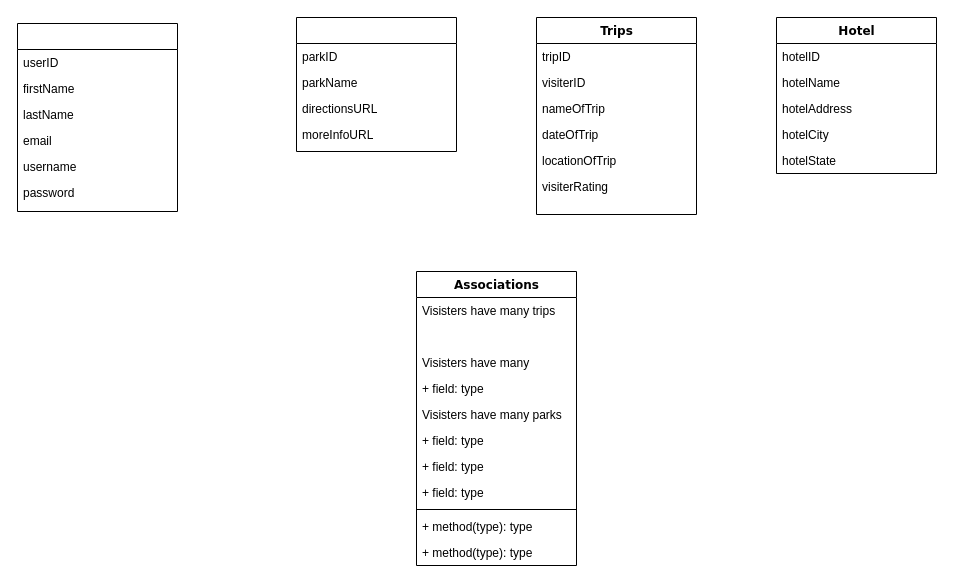
This 954x586 diagram has some shape labels left out. The box of each missing label's shape, as (x1, y1, x2, y2) in pixels:
Parks: (296, 16, 456, 152)
Users: (16, 22, 178, 212)
